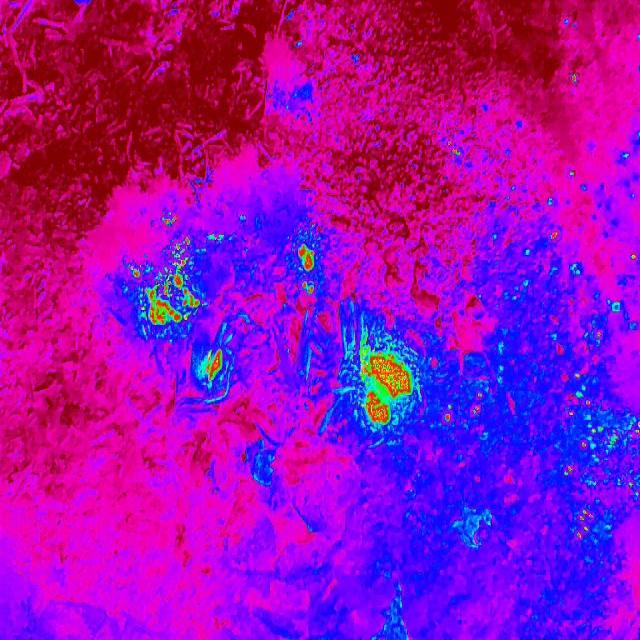fire: (533, 224, 640, 548), (129, 237, 202, 333), (352, 332, 416, 430), (197, 342, 228, 392), (442, 390, 487, 424), (296, 246, 320, 296), (442, 136, 462, 162), (159, 210, 181, 230)
